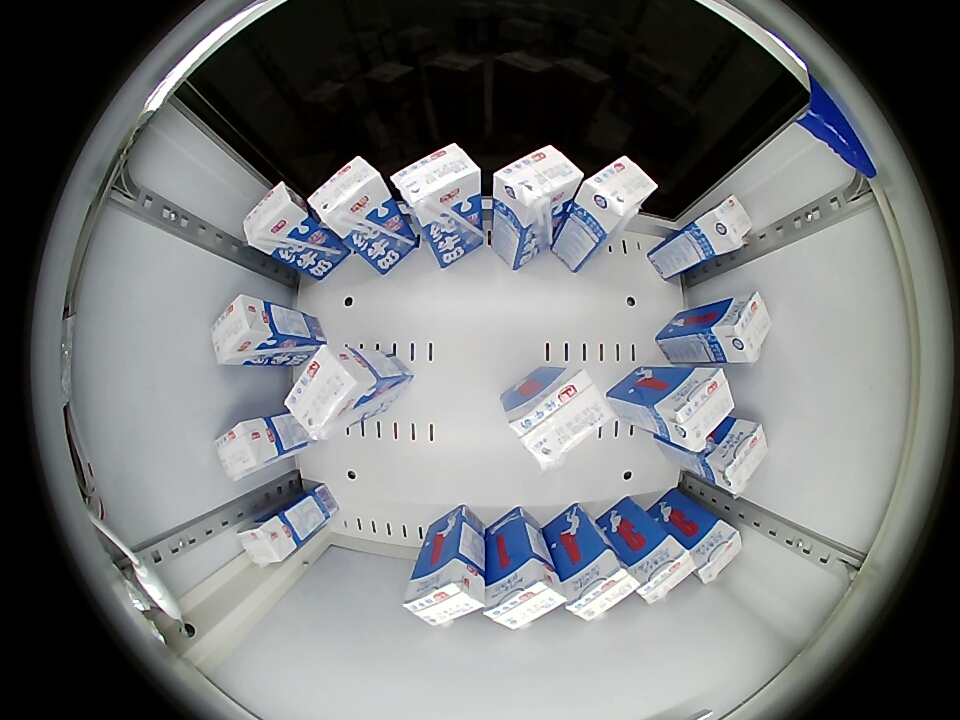niunai: (506, 370, 616, 468), (286, 345, 369, 443), (653, 366, 735, 453), (493, 143, 583, 221), (391, 142, 482, 218), (308, 155, 389, 236), (579, 154, 657, 232), (484, 559, 566, 632), (402, 559, 486, 629), (563, 553, 639, 623), (243, 181, 309, 255), (212, 294, 277, 367), (709, 418, 768, 497), (630, 536, 695, 606), (713, 290, 771, 365), (215, 416, 275, 482), (690, 517, 743, 586), (696, 195, 753, 258), (238, 512, 298, 568)
